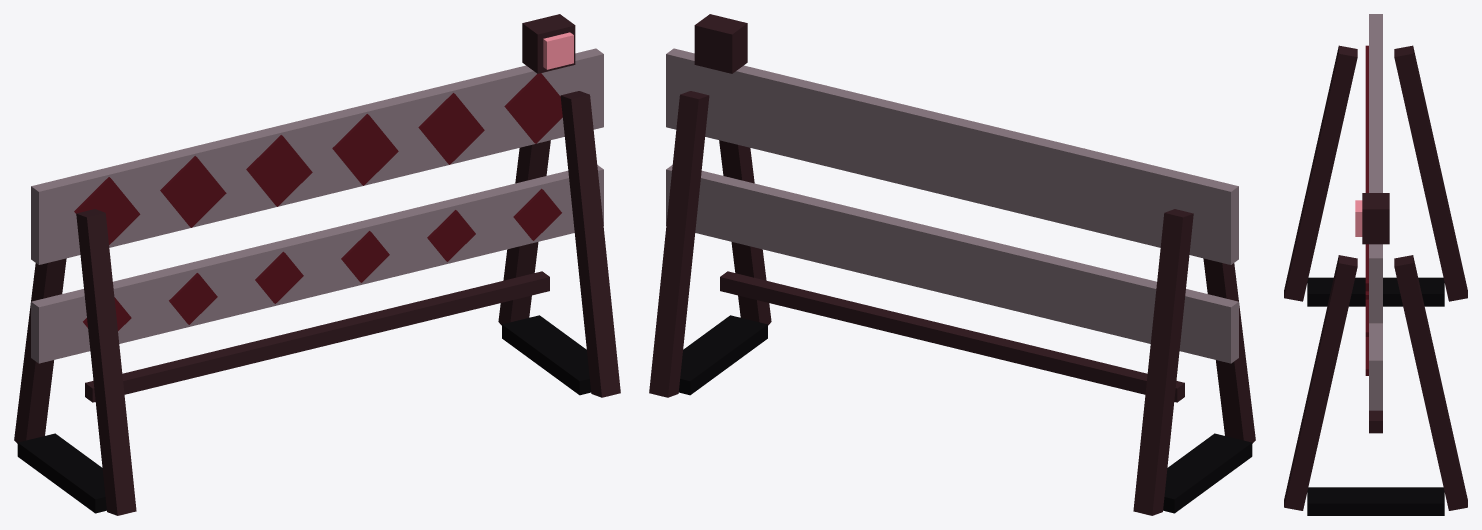
Rendered from SM_Barricade_Stand.obj.
The picture shows the model from 3 angles, left to right: view 1: azimuth 30°, elevation 25°; view 2: azimuth 150°, elevation 25°; view 3: azimuth 270°, elevation 25°; orthographic projection. The views are drawn at different scales.
Parts seen in each view (by area): view 1: plank_upper, plank_lower, brace_cross, leg_back_1, leg_back_0, leg_front_0, foot_0, foot_1, leg_front_1, stripe_u_2, stripe_u_1, stripe_u_3 (+10 smaller); view 2: plank_upper, plank_lower, brace_cross, leg_front_1, leg_front_0, leg_back_0, foot_0, foot_1, leg_back_1, lamp_body; view 3: leg_front_0, leg_back_0, leg_front_1, leg_back_1, foot_1, plank_upper, foot_0, lamp_body, plank_lower, brace_cross, lamp_lens.
Part boxes in pixels (<box>): plank_upper: <box>31,48,603,264</box>; plank_lower: <box>31,165,603,363</box>; brace_cross: <box>85,271,549,402</box>; leg_back_1: <box>560,91,620,397</box>; leg_back_0: <box>76,209,136,515</box>; leg_front_0: <box>14,258,66,443</box>; foot_0: <box>17,433,106,513</box>; foot_1: <box>502,315,591,395</box>; leg_front_1: <box>498,140,550,325</box>; stripe_u_2: <box>246,135,312,206</box>; stripe_u_1: <box>160,156,226,227</box>; stripe_u_3: <box>332,114,398,185</box>; plank_upper: <box>666,48,1238,264</box>; plank_lower: <box>666,165,1238,363</box>; brace_cross: <box>720,271,1184,402</box>; leg_front_1: <box>649,91,709,397</box>; leg_front_0: <box>1133,209,1193,515</box>; leg_back_0: <box>1203,258,1255,443</box>; foot_0: <box>1163,433,1252,513</box>; foot_1: <box>678,315,767,395</box>; leg_back_1: <box>719,140,771,325</box>; lamp_body: <box>694,14,747,73</box>; leg_front_0: <box>1394,45,1467,301</box>; leg_back_0: <box>1284,45,1357,301</box>; leg_front_1: <box>1394,255,1467,510</box>; leg_back_1: <box>1284,255,1357,510</box>; foot_1: <box>1307,487,1444,515</box>; plank_upper: <box>1369,14,1382,323</box>; foot_0: <box>1307,277,1444,306</box>; lamp_body: <box>1362,193,1389,244</box>; plank_lower: <box>1369,323,1382,410</box>; brace_cross: <box>1369,410,1382,433</box>; lamp_lens: <box>1355,200,1362,236</box>.
Size of the model in its own units: 2.1 by 1.21 by 0.6673.
